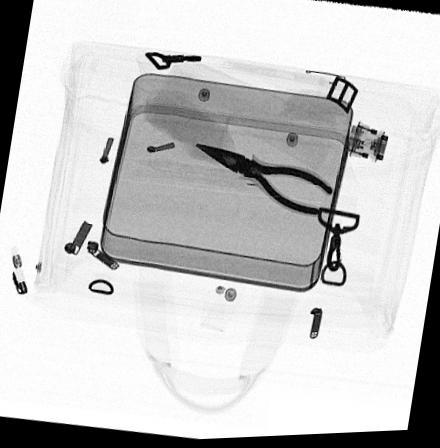Pliers: (192, 146, 334, 219)
